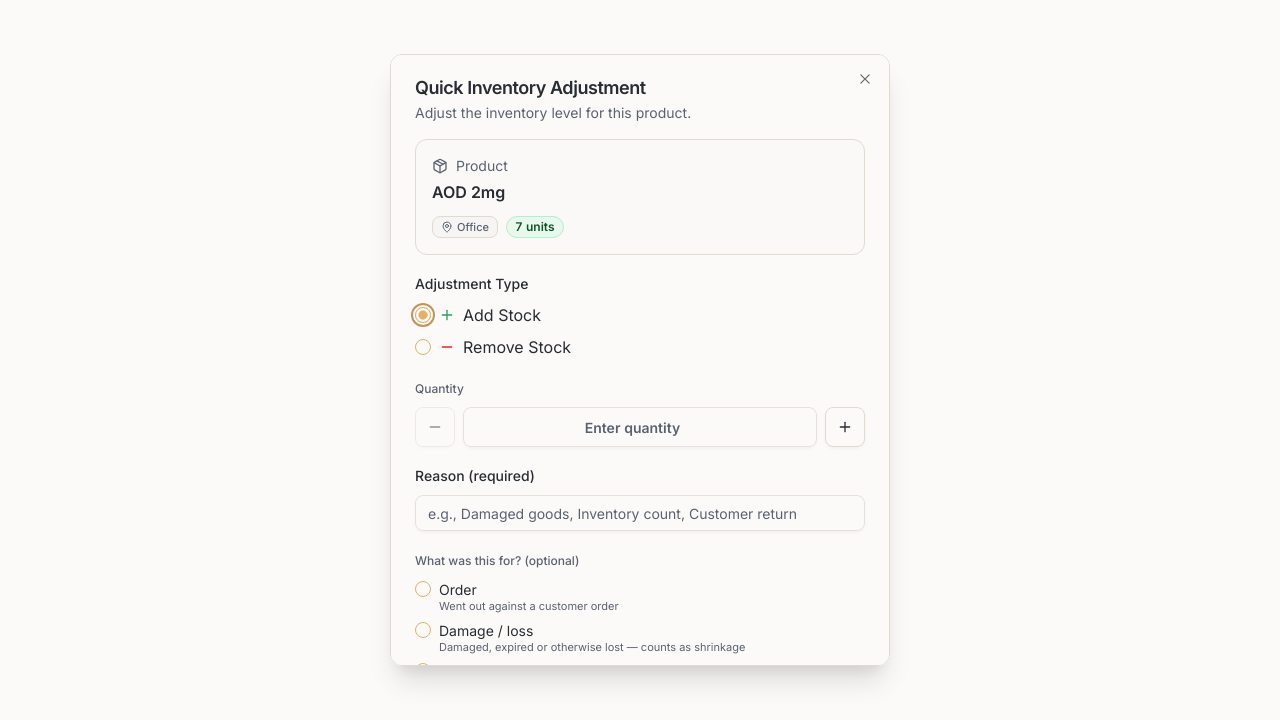
Test: QuickAdjustDialog (add mode) › prompts once a positive quantity is entered
Expected: the text "receiving a shipment?" is not shown
Type "5" into the number field labelled "Quantity".
click(640, 427); type("5")  # box left=463, top=407, right=817, bottom=447
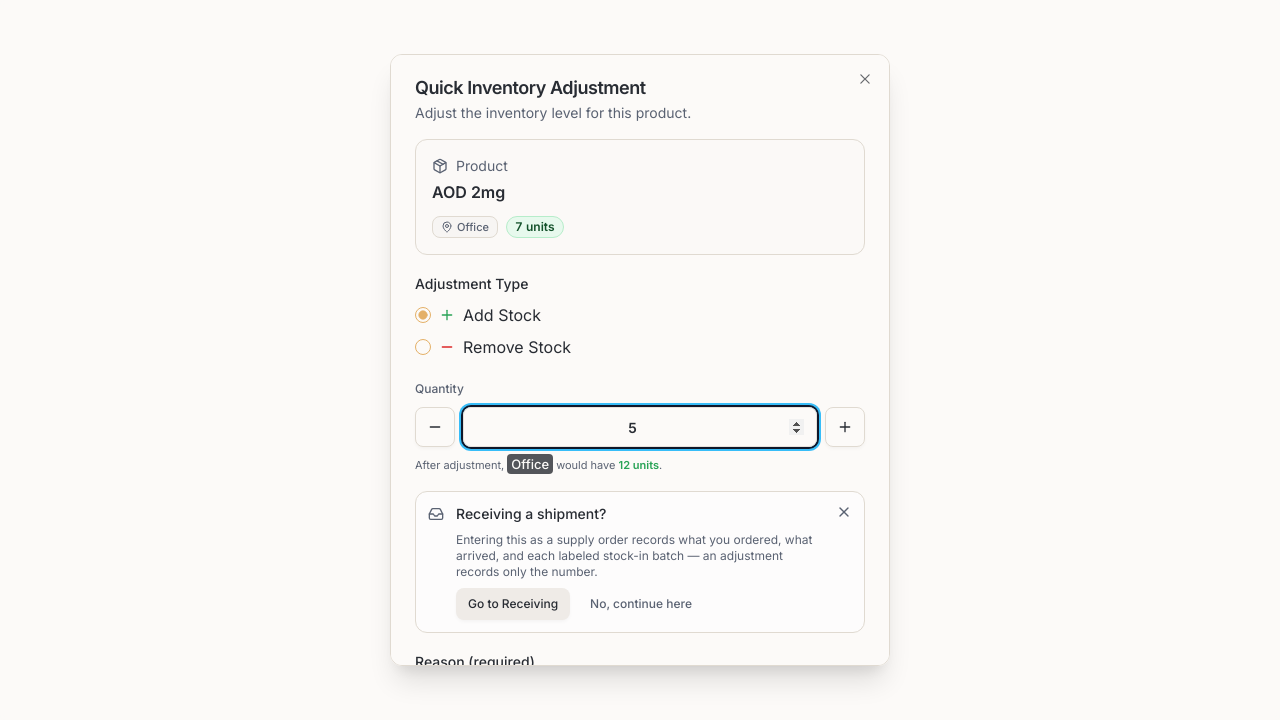
Result: the text "Receiving a shipment?" is shown at left=456, top=504, right=606, bottom=522
